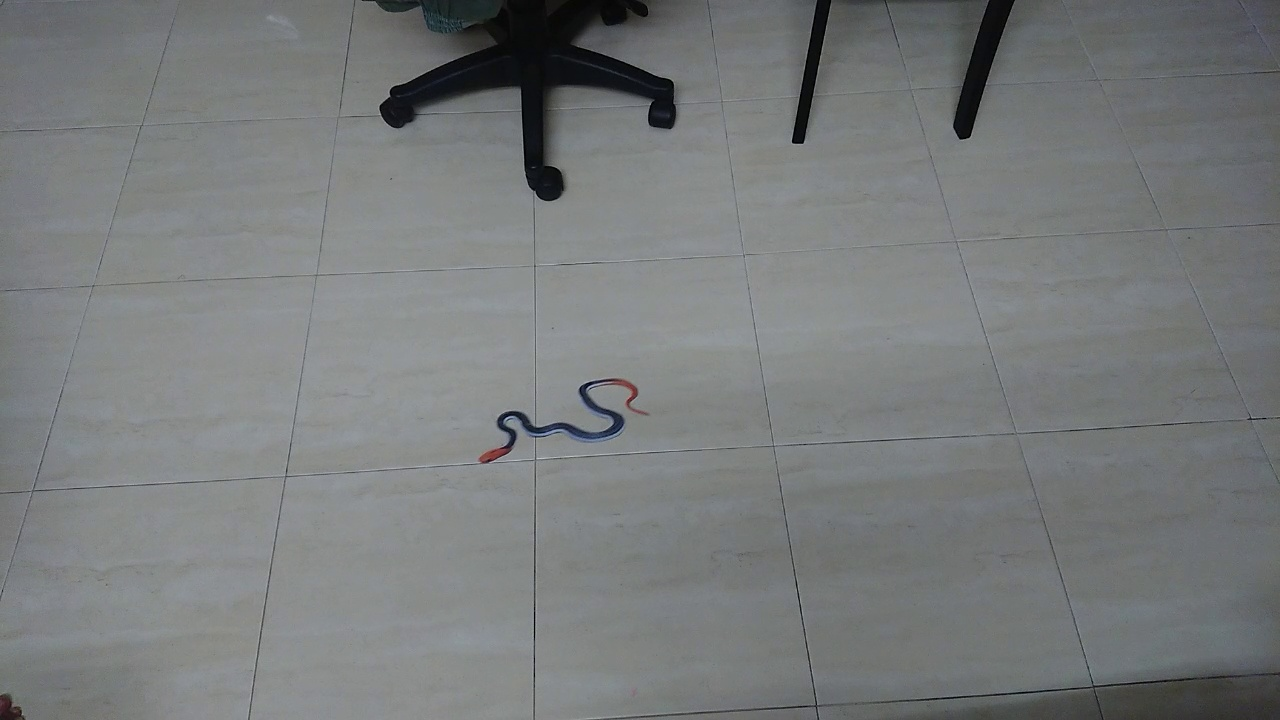snake: (460, 368, 660, 475)
